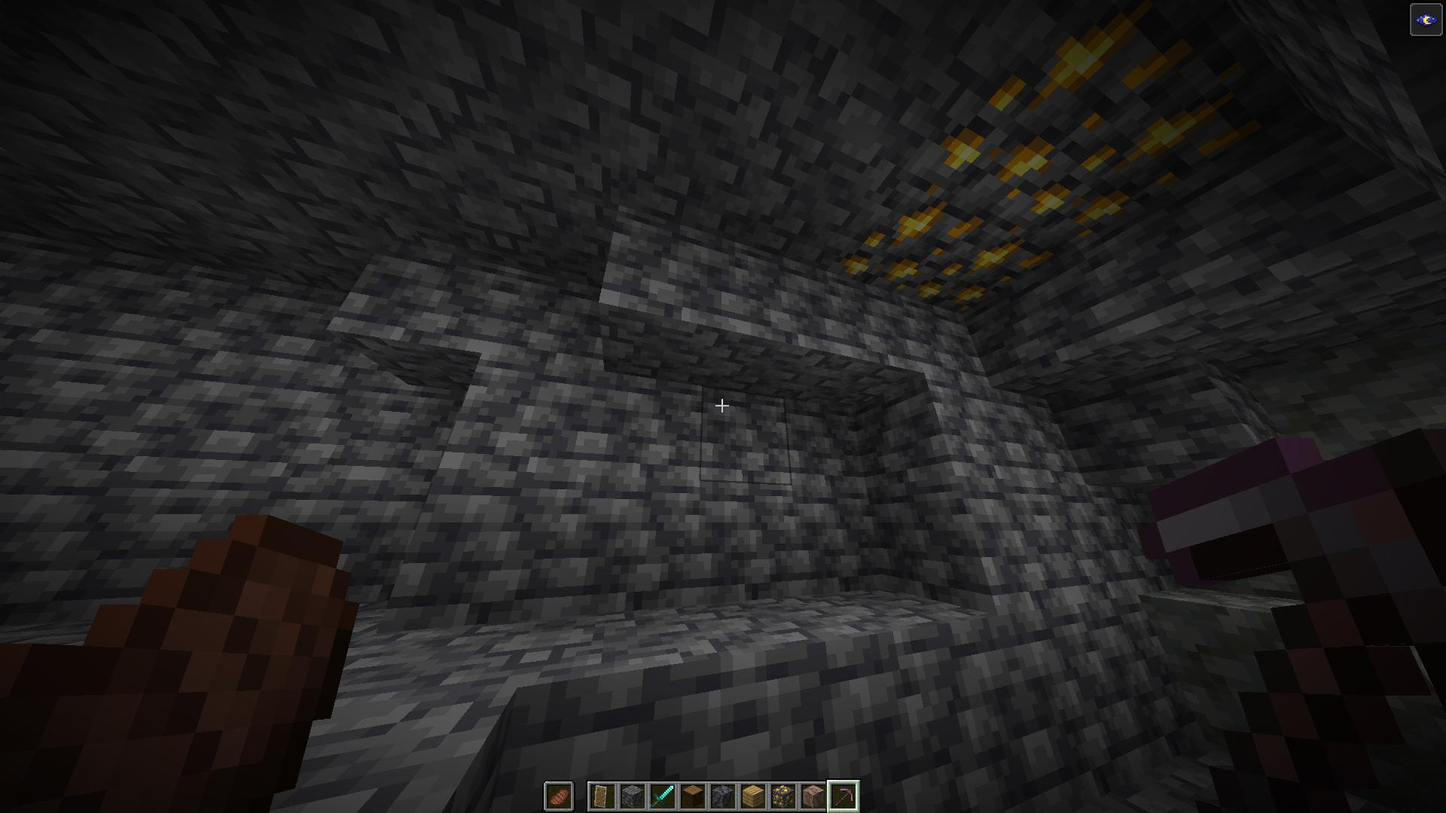gold ore: (918, 5, 1271, 252), (838, 206, 1059, 324)
